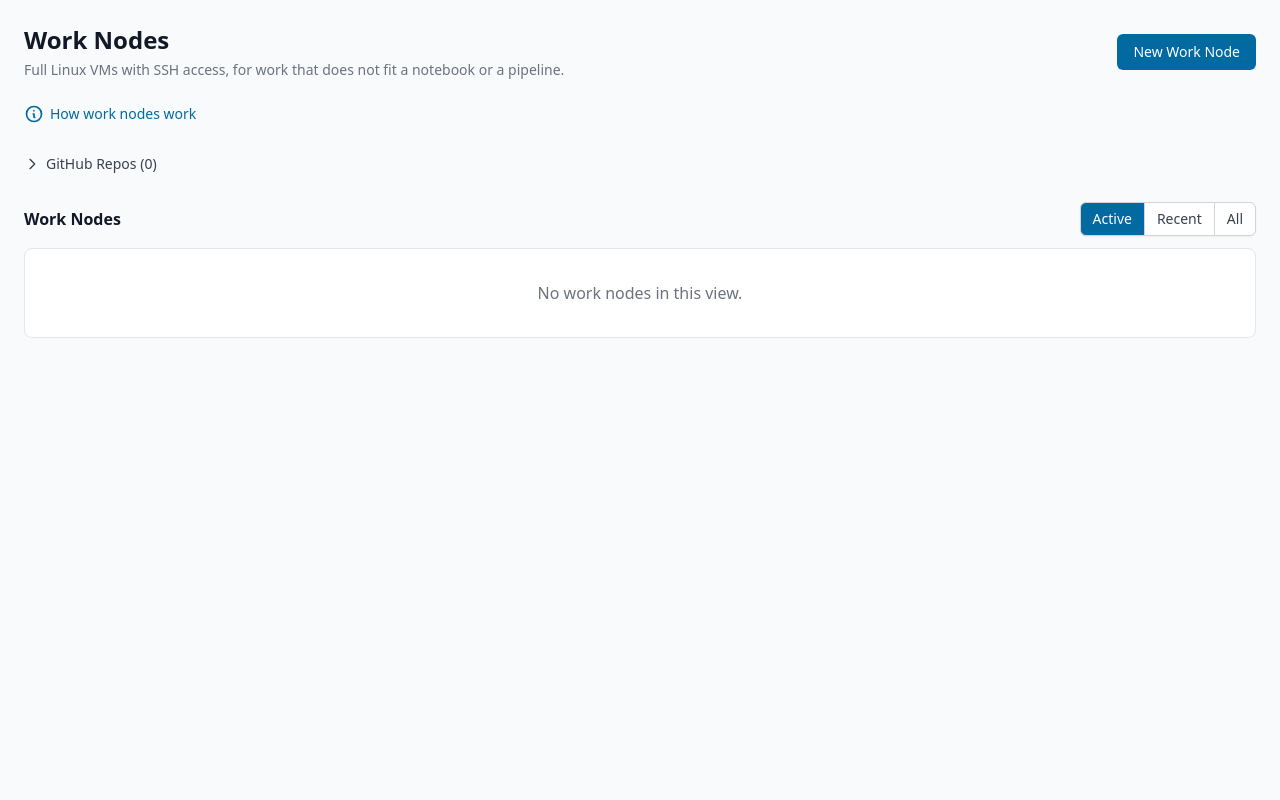
Test: WorkNodesPage launch dialog: shape and ordering › step 1 sections appear in order: Machine Profile, Workbench Template, Link to, GitHub Repos
The width and height of the screenshot is (1280, 800).
Click the button "New Work Node".
click(1187, 52)  # box [1117,34,1256,70]
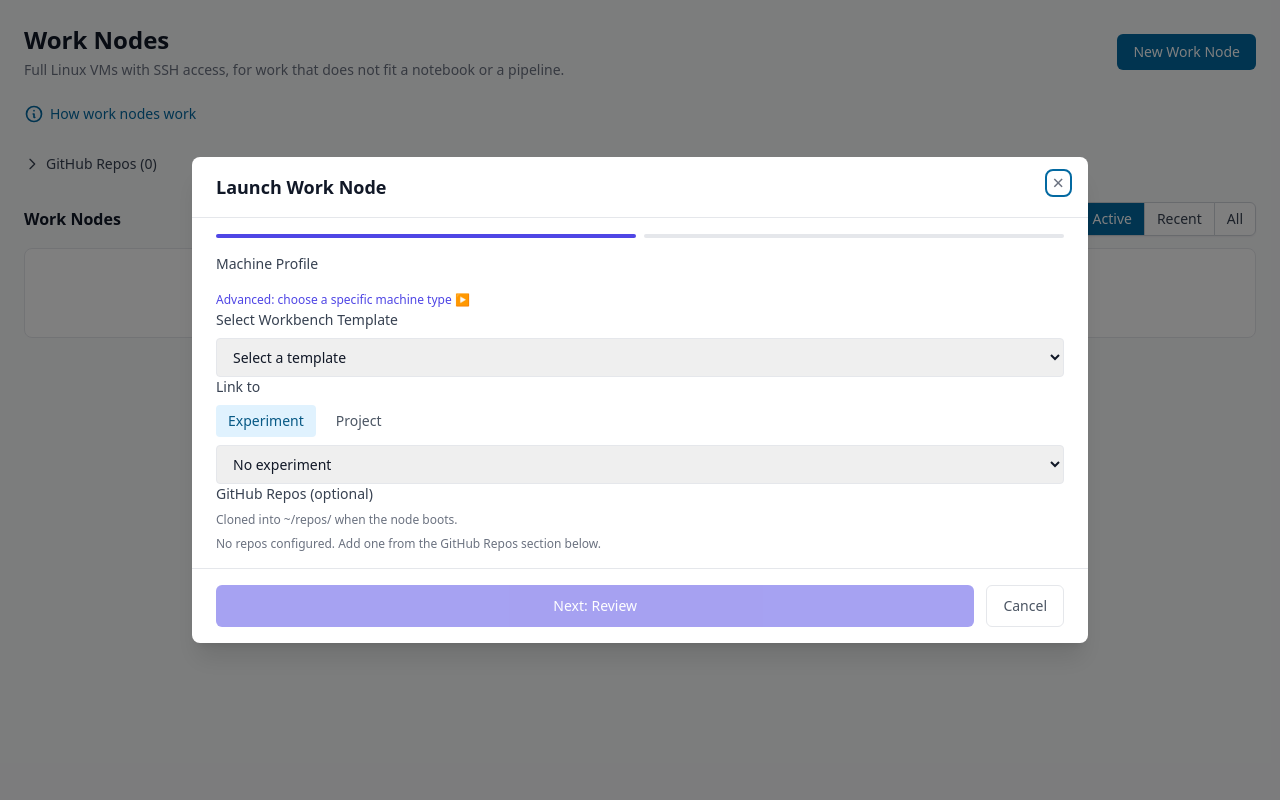
Check: the heading "Machine Profile" is shown, box [216,254,318,273]
Check: the button "Next: Review" is shown, box [216,585,974,627]
